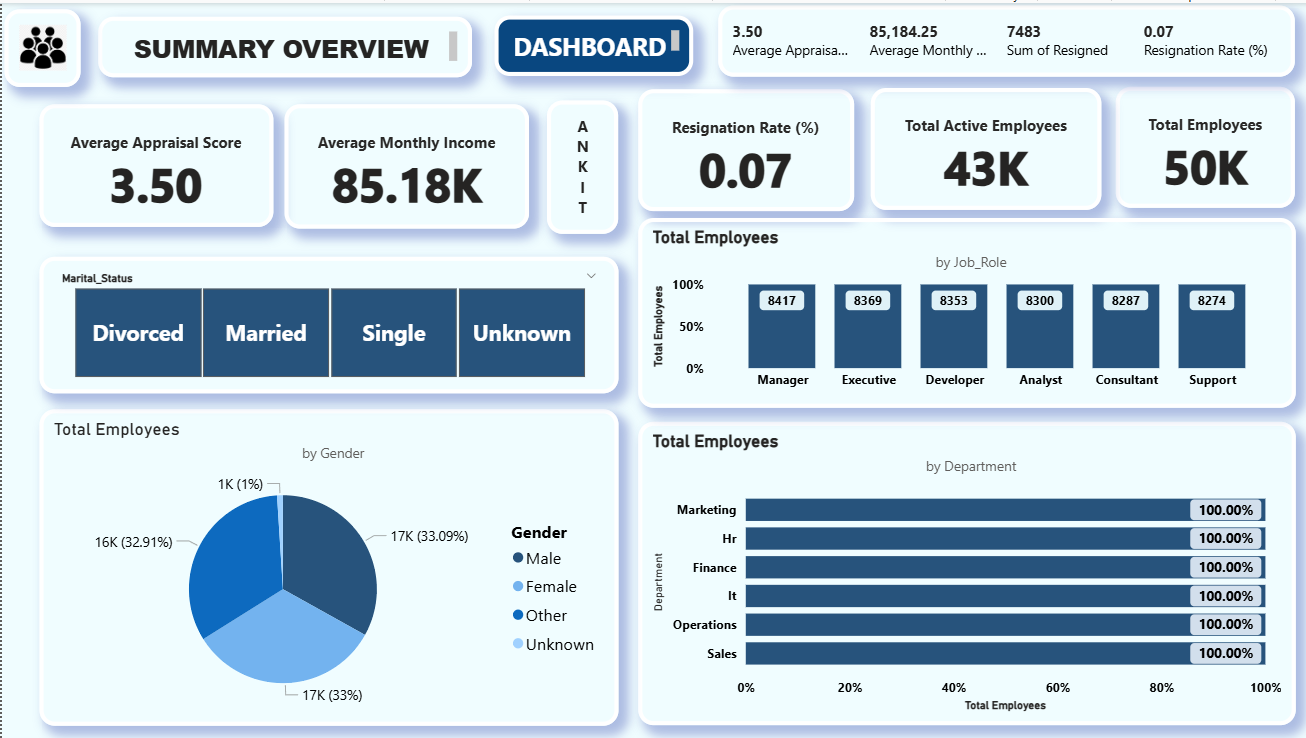

What the dashboard file says about the page in this screenshot:
{"tool":"powerbi","page":{"name":" HR  SUMMARY OVERVIE","canvas":[1280,720],"ordinal":0},"visuals":[{"type":"textbox","box":[93.6,13.4,365.4,59.4],"z":0},{"type":"textbox","box":[481.2,11.9,194.6,59.4],"z":1000},{"type":"cardVisual","fields":{"Data":["ROW.Average Appraisal Score"]},"box":[37.1,99.5,228.7,120.3],"z":2000},{"type":"cardVisual","fields":{"Data":["ROW.Resignation Rate (%)"]},"box":[622.3,84.7,210.9,118.8],"z":3000},{"type":"cardVisual","fields":{"Data":["ROW.Average Monthly Income"]},"box":[276.3,99.5,239.1,121.8],"z":4000},{"type":"cardVisual","fields":{"Data":["ROW.Total Employees"]},"box":[1090.1,82,175.3,118.1],"z":5000},{"type":"hundredPercentStackedBarChart","fields":{"Category":["ROW.Department"],"Y":["ROW.Total Employees"]},"box":[622.3,409.9,643.1,297.1],"z":6000},{"type":"pieChart","fields":{"Category":["ROW.Gender"],"Y":["ROW.Total Employees"]},"box":[36.9,397.2,566.4,309.8],"z":7000},{"type":"slicer","fields":{"Values":["ROW.Marital_Status"]},"box":[36.9,248.4,566.4,133.8],"z":8000},{"type":"multiRowCard","fields":{"Values":["ROW.Average Appraisal Score","ROW.Average Monthly Income","ROW.Resigned","ROW.Resignation Rate (%)"]},"box":[701,2.5,564.3,69.6],"z":9000},{"type":"textbox","box":[533.2,95.1,69.8,130.7],"z":10000},{"type":"image","box":[2.5,6.2,74.6,75.8],"z":11000},{"type":"cardVisual","fields":{"Data":["ROW.Total Employees"]},"box":[849.6,83.2,225.8,118.8],"z":12000},{"type":"hundredPercentStackedColumnChart","fields":{"Category":["ROW.Job_Role"],"Y":["ROW.Total Employees"]},"box":[622.3,210.9,643.1,185.7],"z":13000}]}

Visuals, with their boxes in screenshot pixels (x1, y1, x2, y2), scaled from the page's 1280x720 canvas onto the 1306x738 screenshot:
textbox: (left=96, top=14, right=468, bottom=75)
textbox: (left=491, top=12, right=690, bottom=73)
cardVisual - ROW.Average Appraisal Score: (left=38, top=102, right=271, bottom=225)
cardVisual - ROW.Resignation Rate (%): (left=635, top=87, right=850, bottom=209)
cardVisual - ROW.Average Monthly Income: (left=282, top=102, right=526, bottom=227)
cardVisual - ROW.Total Employees: (left=1112, top=84, right=1291, bottom=205)
hundredPercentStackedBarChart - ROW.Department x ROW.Total Employees: (left=635, top=420, right=1291, bottom=725)
pieChart - ROW.Gender x ROW.Total Employees: (left=38, top=407, right=616, bottom=725)
slicer - ROW.Marital_Status: (left=38, top=255, right=616, bottom=392)
multiRowCard - ROW.Average Appraisal Score x ROW.Average Monthly Income: (left=715, top=3, right=1291, bottom=74)
textbox: (left=544, top=97, right=615, bottom=231)
image: (left=3, top=6, right=79, bottom=84)
cardVisual - ROW.Total Employees: (left=867, top=85, right=1097, bottom=207)
hundredPercentStackedColumnChart - ROW.Job_Role x ROW.Total Employees: (left=635, top=216, right=1291, bottom=407)
